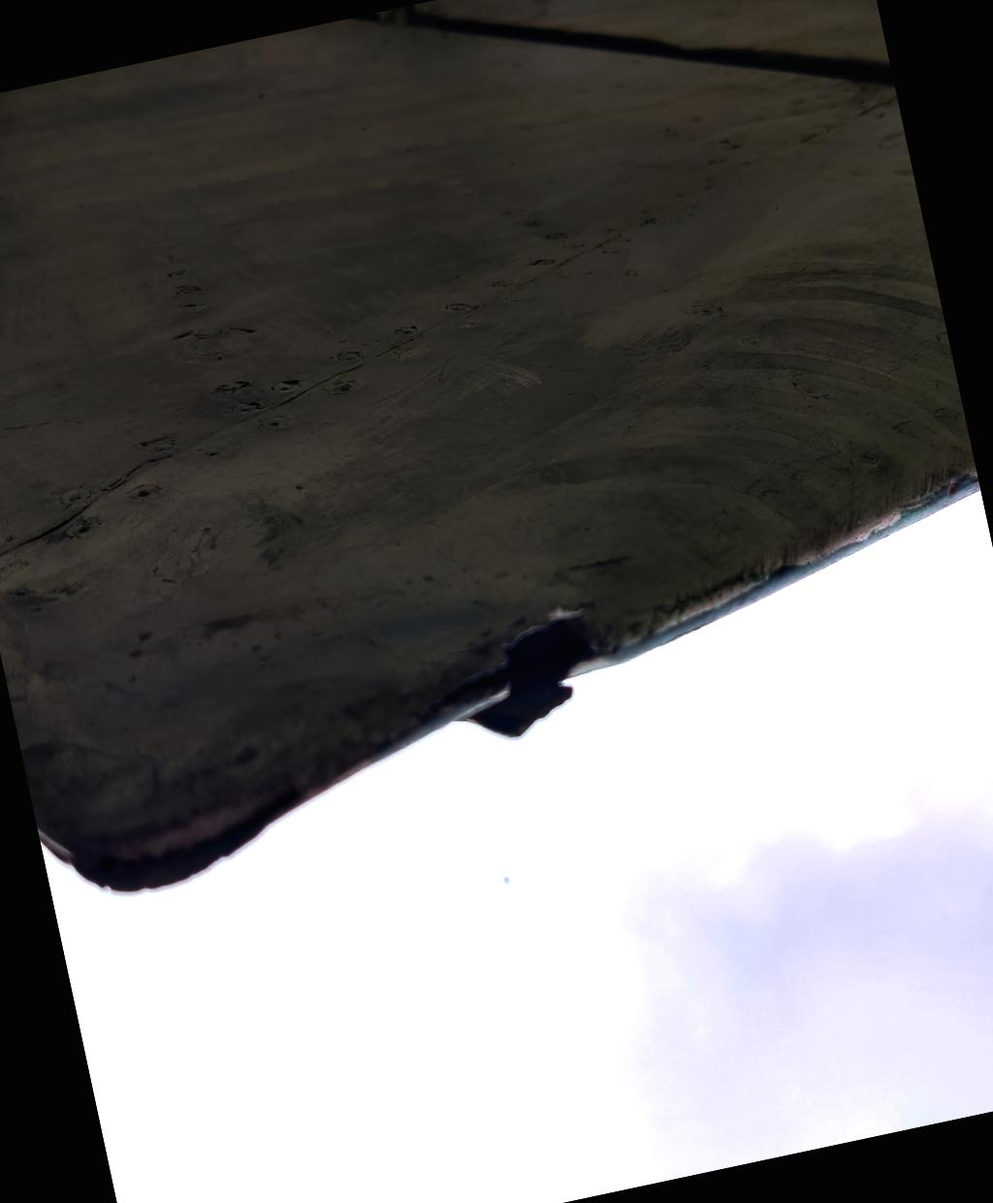crack: (402, 569, 655, 791)
